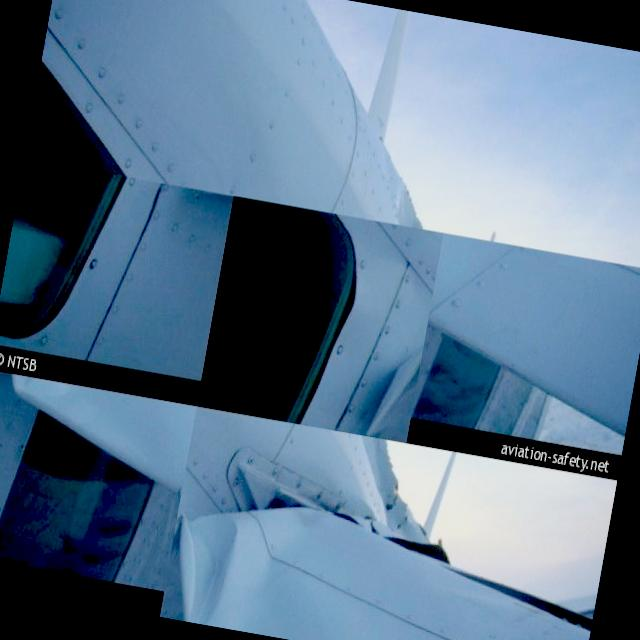dent: (159, 504, 246, 628)
